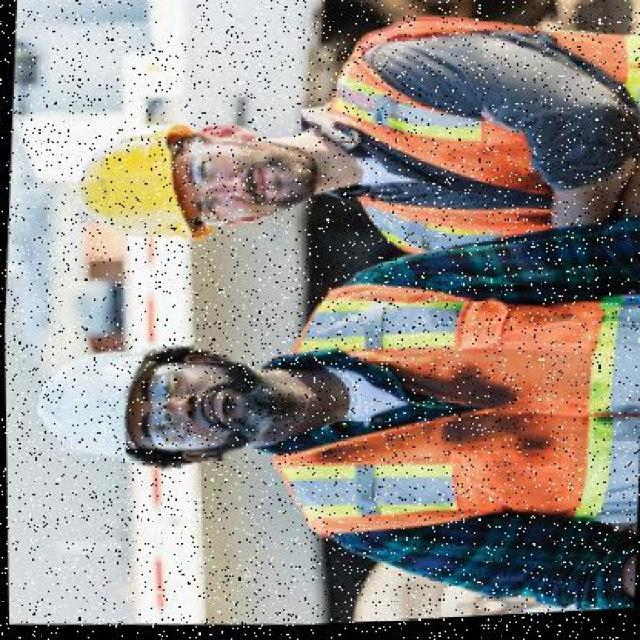helmet: (33, 335, 173, 475), (79, 121, 188, 243)
vest: (257, 265, 639, 559), (320, 0, 638, 280)
